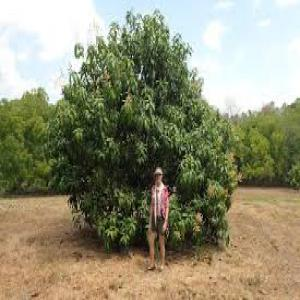Tree: (47, 7, 233, 249)
